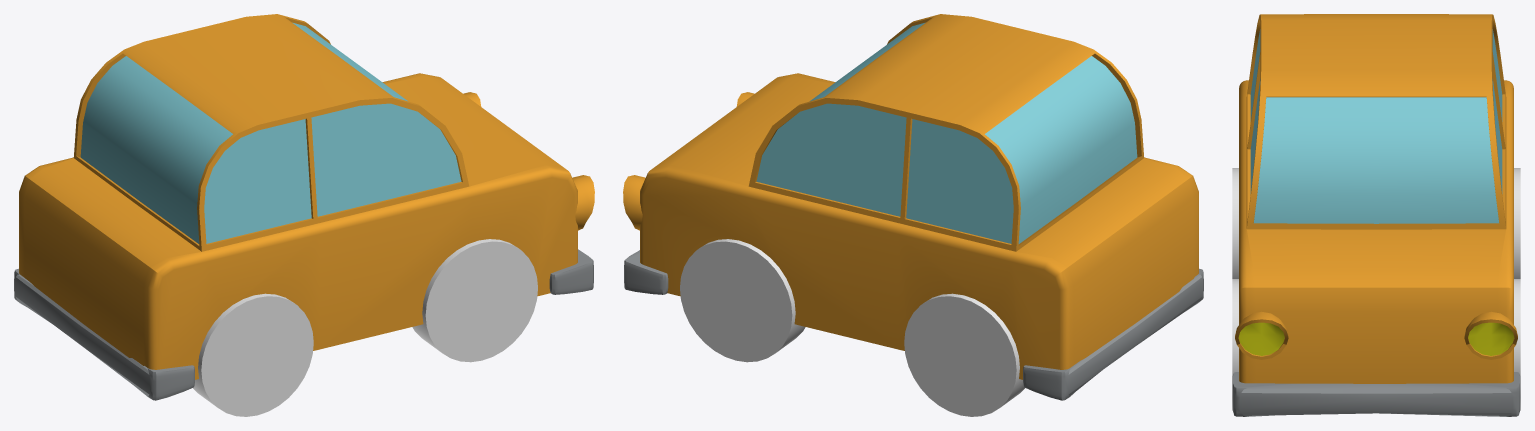
Rendered from Car2.fbx.
3 renders of one model, left to right at view 1: azimuth 30°, elevation 25°; view 2: azimuth 150°, elevation 25°; view 3: azimuth 270°, elevation 25°, orthographic.
Visible parts, largest first — view 1: Cube, Circle, Cube.002, Cube.001, Circle.001; view 2: Cube, Circle, Cube.002, Cube.001, Circle.001; view 3: Cube, Cube.001, Circle.001, Circle.
Part boxes in pixels (x1=…): Cube: x1=19, y1=14, x2=577, y2=379; Circle: x1=193, y1=239, x2=537, y2=416; Cube.002: x1=14, y1=268, x2=194, y2=400; Cube.001: x1=549, y1=249, x2=593, y2=294; Circle.001: x1=463, y1=92, x2=594, y2=230; Cube: x1=640, y1=14, x2=1198, y2=379; Circle: x1=680, y1=239, x2=1024, y2=416; Cube.002: x1=1023, y1=268, x2=1203, y2=400; Cube.001: x1=624, y1=250, x2=668, y2=294; Circle.001: x1=623, y1=92, x2=754, y2=230; Cube: x1=1239, y1=14, x2=1513, y2=383; Cube.001: x1=1232, y1=372, x2=1520, y2=416; Circle.001: x1=1235, y1=311, x2=1517, y2=359; Circle: x1=1232, y1=168, x2=1520, y2=409.
Bounding box in the file's own units: 440 × 256 × 239.
